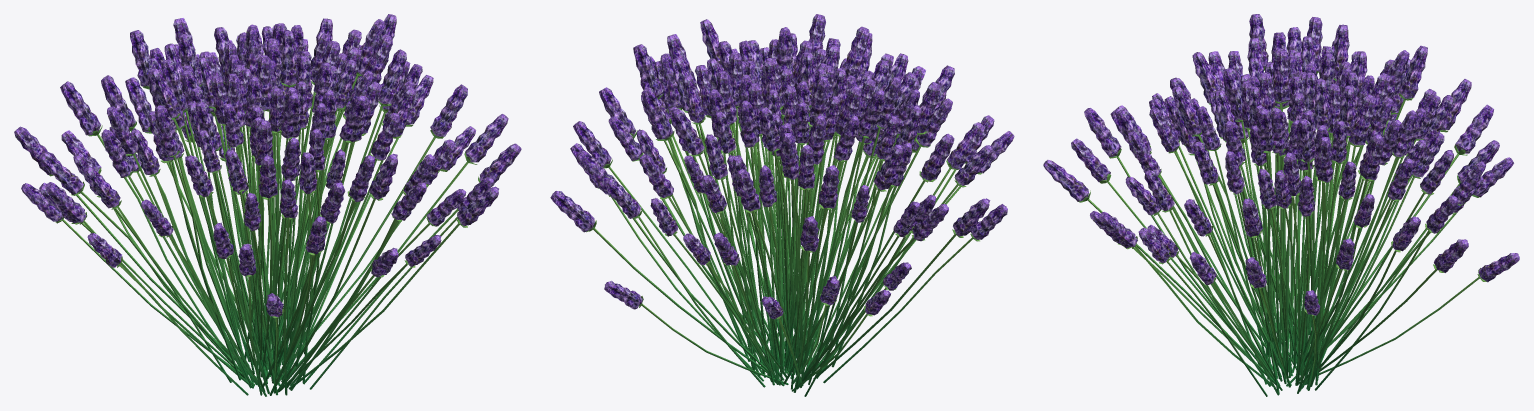
The model's file is sweethome3d-scopia-lavender-bush.glb.
The picture shows the model from 3 angles, left to right: view 1: azimuth 30°, elevation 25°; view 2: azimuth 150°, elevation 25°; view 3: azimuth 270°, elevation 25°; orthographic projection. The views are drawn at different scales.
Visible parts, largest first — view 1: LavenderLow.032, LavenderLow.136, LavenderLow.038, LavenderLow.045, LavenderLow.105, LavenderLow.095, LavenderLow.059, LavenderLow.063, LavenderLow.055, LavenderLow.010, LavenderLow.041, LavenderLow.091 (+89 smaller); view 2: LavenderLow.109, LavenderLow.108, LavenderLow.059, LavenderLow.010, LavenderLow.118, LavenderLow.039, LavenderLow.135, LavenderLow.143, LavenderLow.122, LavenderLow.094, LavenderLow.144, LavenderLow.053 (+91 smaller); view 3: LavenderLow.084, LavenderLow.130, LavenderLow.105, LavenderLow.067, LavenderLow.094, LavenderLow.132, LavenderLow.049, LavenderLow.108, LavenderLow.119, LavenderLow.086, LavenderLow.064, LavenderLow.135 (+88 smaller).
Part boxes in pixels (x1,y1,x2,y2): LavenderLow.032: [277, 84, 467, 384]; LavenderLow.136: [60, 81, 244, 378]; LavenderLow.038: [155, 105, 241, 380]; LavenderLow.045: [39, 152, 241, 371]; LavenderLow.105: [288, 186, 498, 389]; LavenderLow.095: [289, 114, 508, 375]; LavenderLow.059: [149, 67, 250, 362]; LavenderLow.063: [278, 153, 397, 392]; LavenderLow.055: [83, 165, 257, 384]; LavenderLow.010: [101, 129, 257, 384]; LavenderLow.041: [130, 128, 246, 378]; LavenderLow.091: [297, 49, 406, 343]; LavenderLow.109: [550, 191, 770, 375]; LavenderLow.108: [641, 87, 760, 376]; LavenderLow.059: [806, 90, 885, 361]; LavenderLow.010: [797, 133, 954, 385]; LavenderLow.118: [573, 121, 765, 377]; LavenderLow.039: [813, 198, 990, 378]; LavenderLow.135: [604, 178, 765, 387]; LavenderLow.143: [759, 107, 797, 358]; LavenderLow.122: [781, 133, 803, 379]; LavenderLow.094: [633, 44, 749, 361]; LavenderLow.144: [672, 108, 779, 379]; LavenderLow.053: [783, 144, 903, 384]; LavenderLow.084: [1043, 160, 1275, 384]; LavenderLow.130: [1306, 94, 1375, 389]; LavenderLow.105: [1099, 212, 1272, 386]; LavenderLow.067: [1084, 108, 1251, 354]; LavenderLow.094: [1313, 137, 1333, 377]; LavenderLow.132: [1299, 131, 1444, 391]; LavenderLow.049: [1338, 104, 1493, 322]; LavenderLow.108: [1310, 134, 1384, 386]; LavenderLow.119: [1299, 150, 1453, 380]; LavenderLow.086: [1071, 138, 1246, 348]; LavenderLow.064: [1149, 107, 1269, 349]; LavenderLow.135: [1314, 195, 1457, 390].
Bounding box in the file's own units: 81.76 × 64.7 × 82.05.
3 materials, 3 textured.
